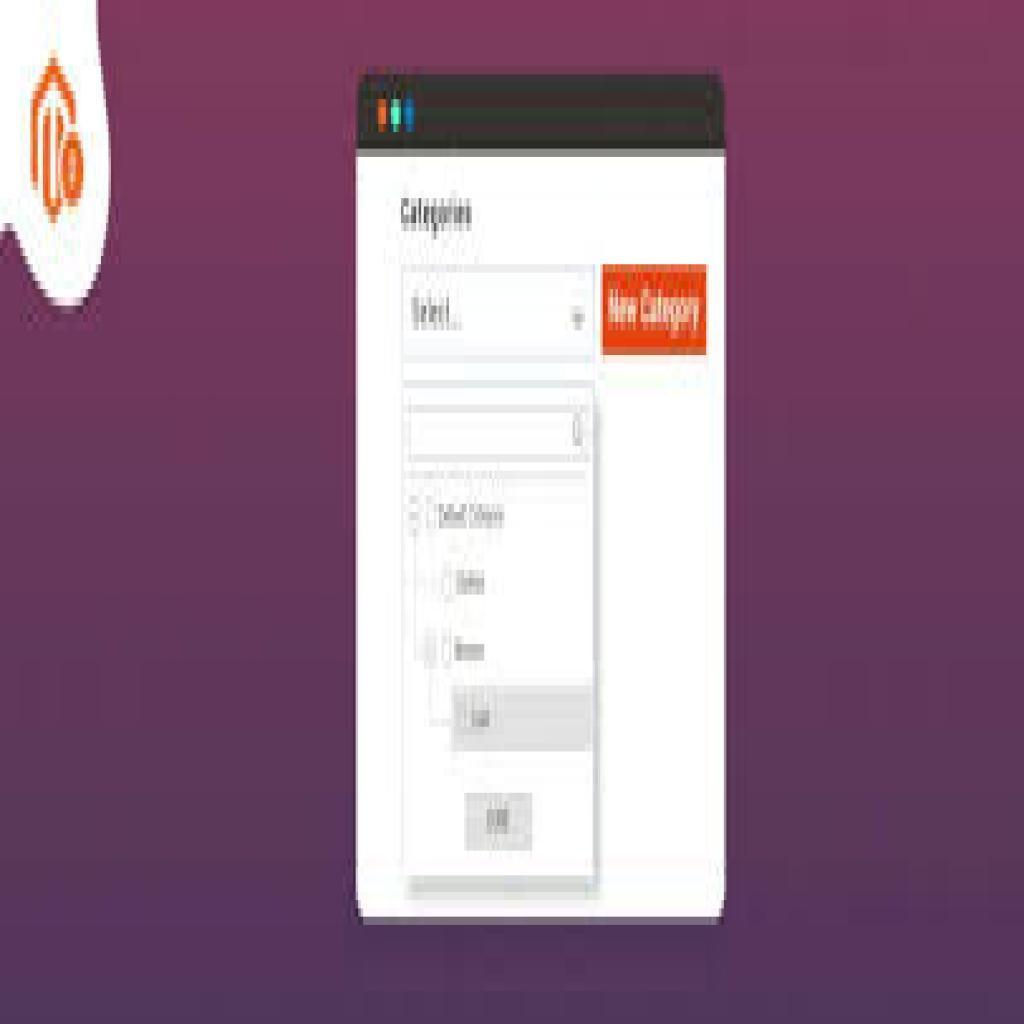button: (452, 685, 597, 752), (604, 265, 708, 357), (465, 791, 535, 853)
dropdown: (398, 269, 598, 362)
input: (407, 408, 589, 456)
